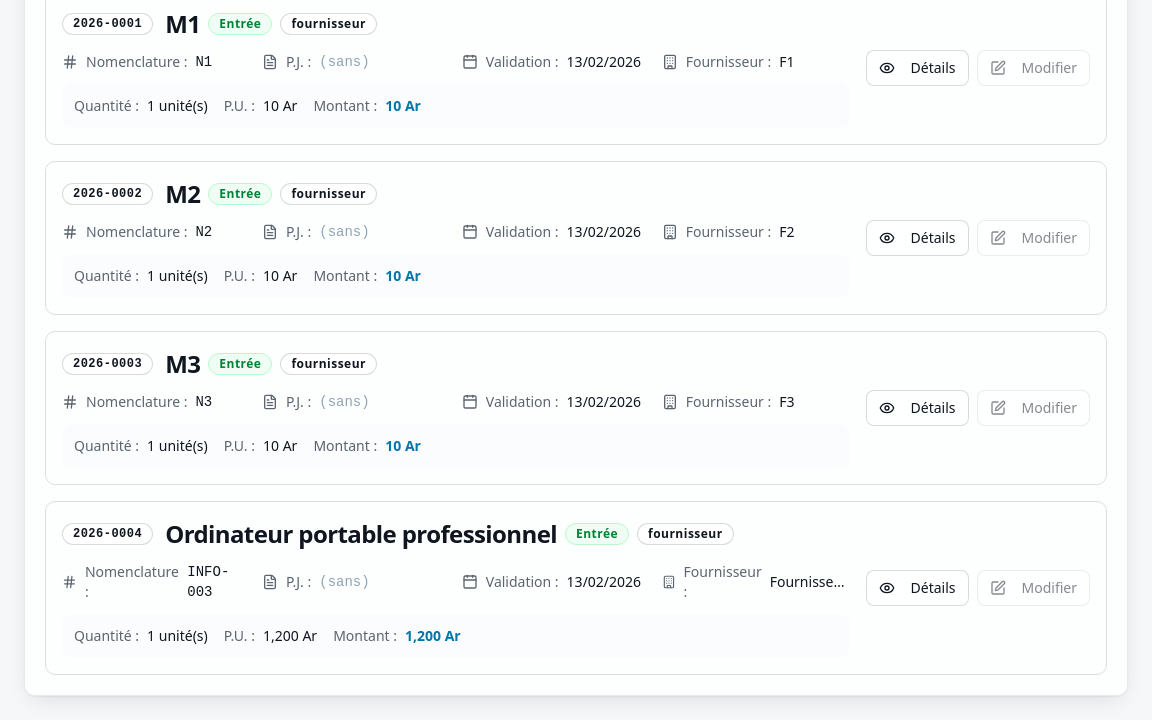
Test: Détails du journal — photo de l'article › 4. un échec réseau n'empêche pas l'affichage du détail
(page scrolled)
Step 1. Click the button "Détails" next to "Fournisseur D" → x=917, y=588, box [866,570,968,606]
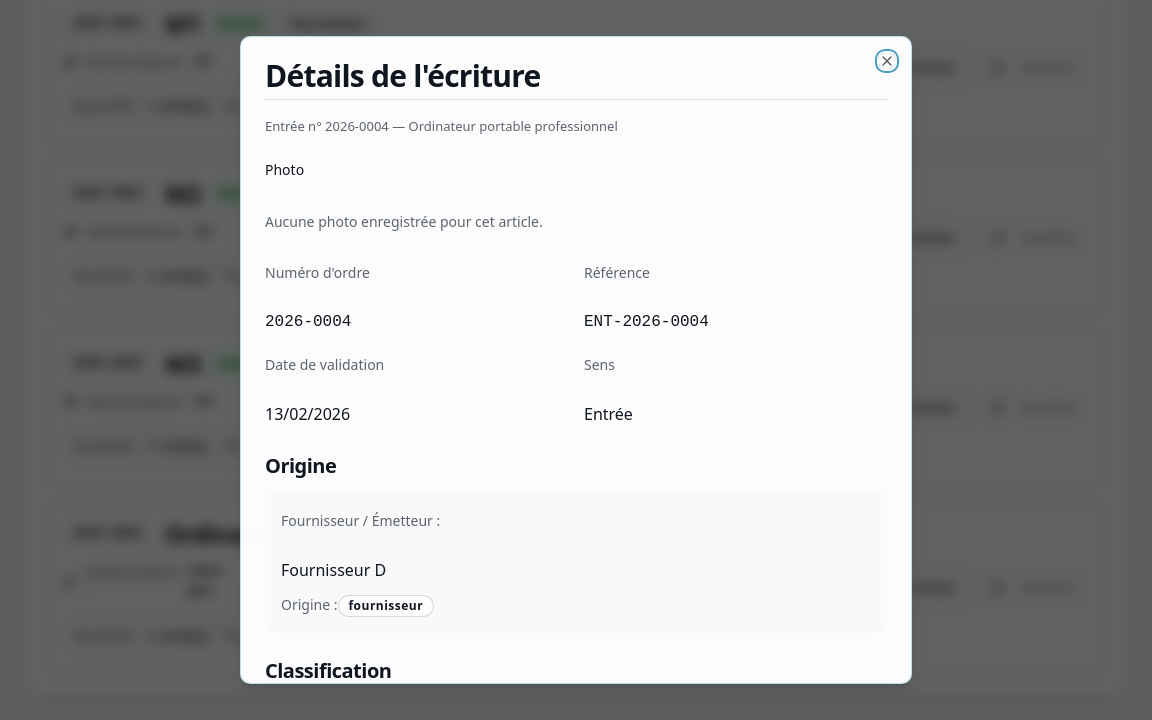
Result: the text "Aucune photo enregistrée pour cet article." is shown at [265,208,543,236]
Result: the text "Numéro d'ordre" is shown at [265,263,370,282]
Result: the text "2026-0004" is shown at [265,313,351,331]
